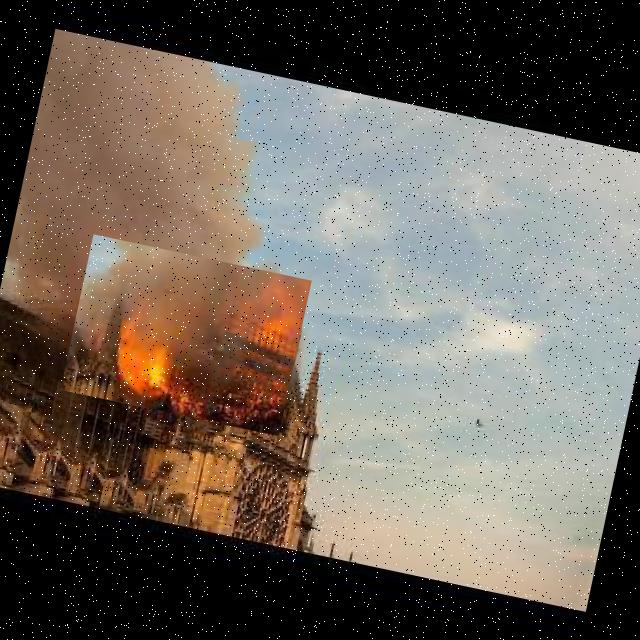fire: (60, 234, 311, 436)
